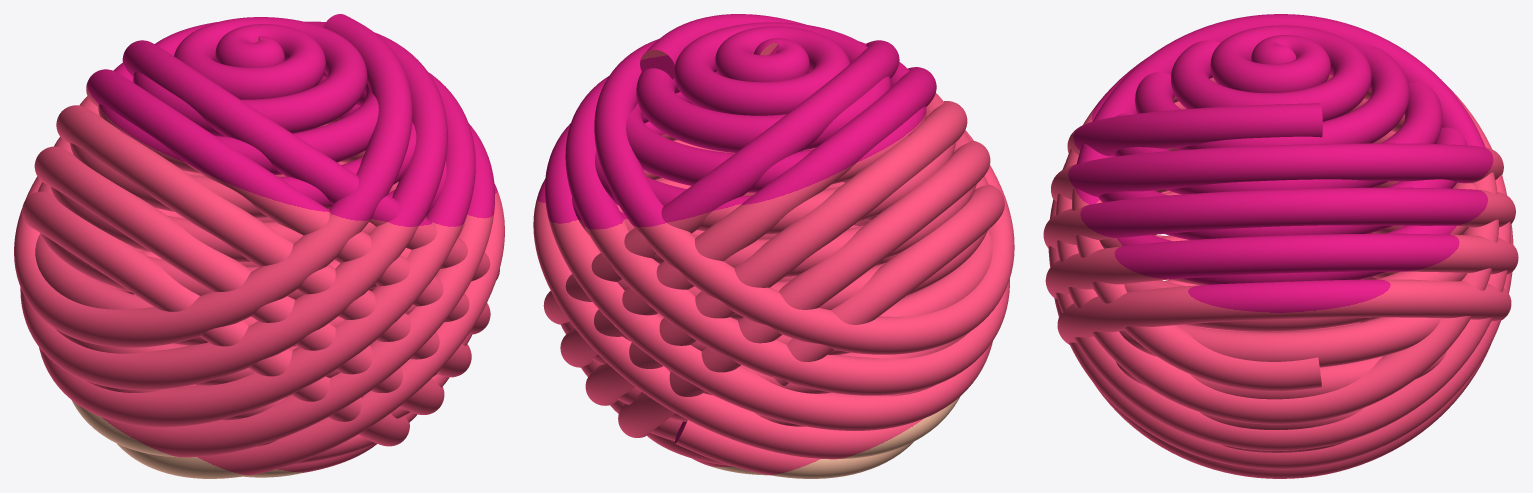
Rendered from Bola de estambre (2).fbx.
3 views of the same model, side by side, from view 1: azimuth 30°, elevation 25°; view 2: azimuth 150°, elevation 25°; view 3: azimuth 270°, elevation 25° (orthographic). The views are drawn at different scales.
Parts seen in each view (by area): view 1: Cube.008; view 2: Cube.008; view 3: Cube.008.
Part boxes in pixels (bbox=[...]): Cube.008: bbox=[14, 14, 504, 478]; Cube.008: bbox=[533, 14, 1014, 478]; Cube.008: bbox=[1043, 14, 1518, 478].
Size of the model in its own units: 124 by 118 by 125.
1 material, 1 textured.
